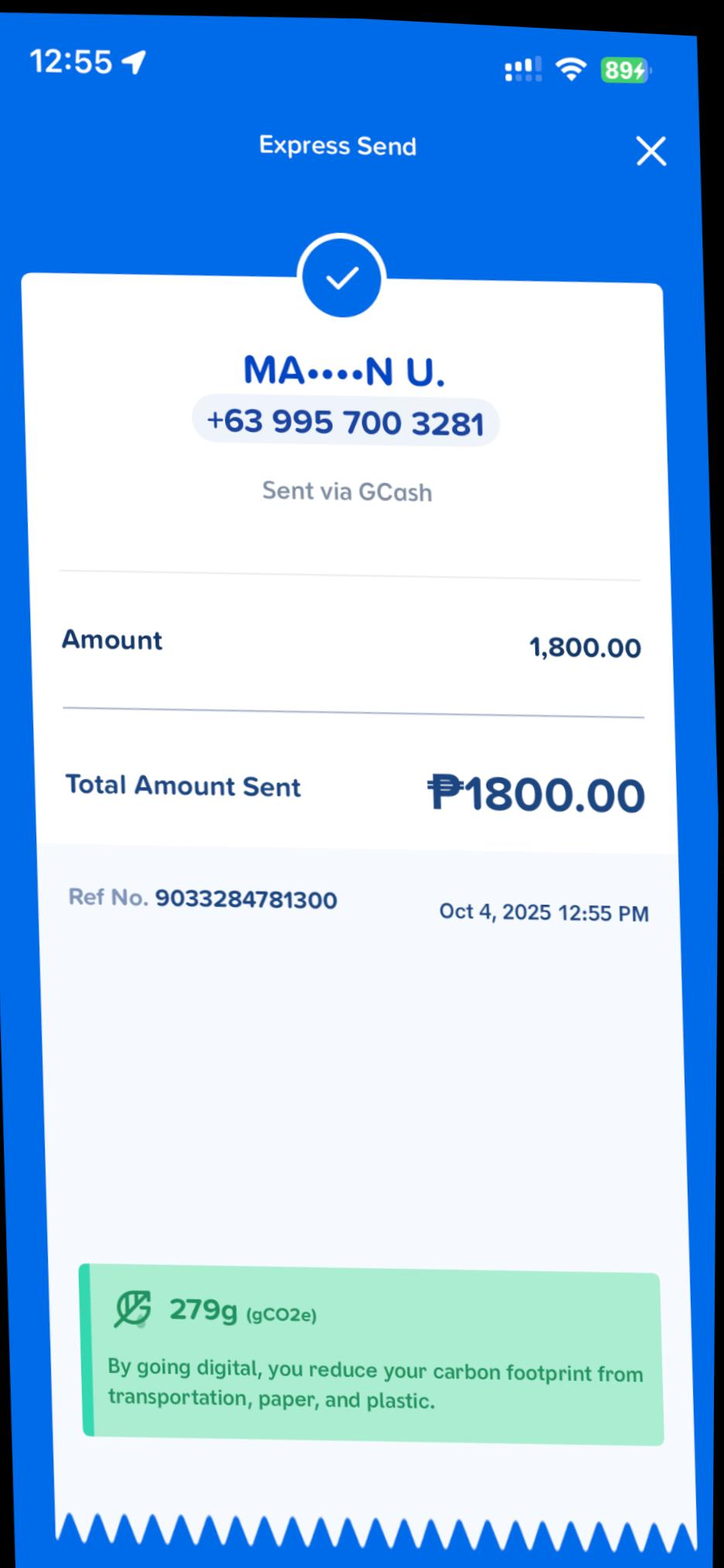Receipt: (0, 107, 718, 1568)
